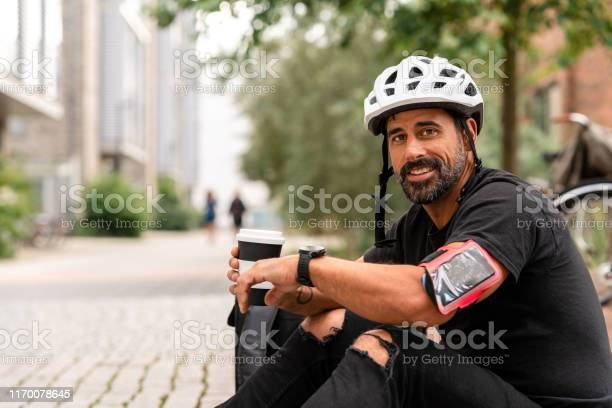helmet: (362, 55, 485, 205)
